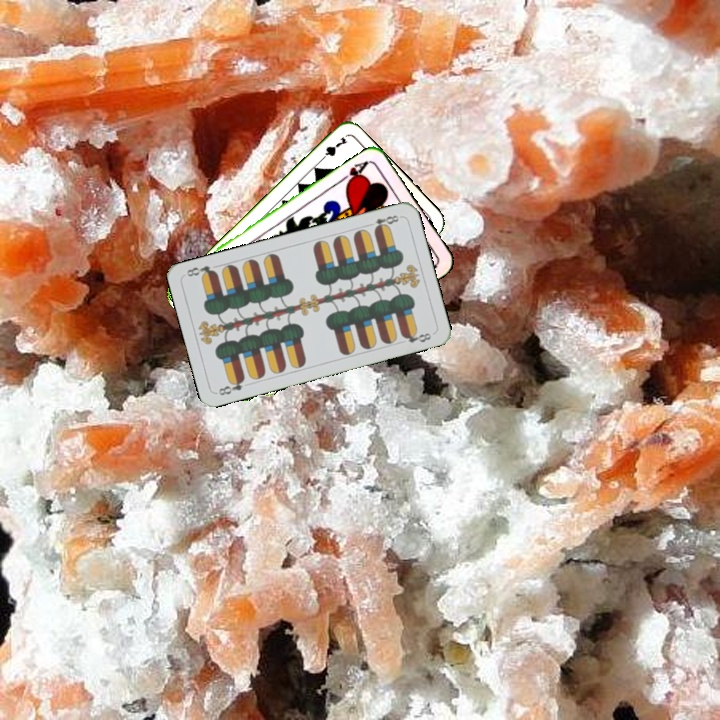E8: (363, 211, 403, 233), (214, 374, 247, 398)
G7: (315, 132, 350, 165)
HA: (336, 157, 373, 189)
